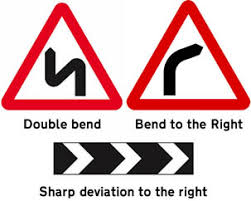Double_bend_left: (1, 1, 124, 114)
